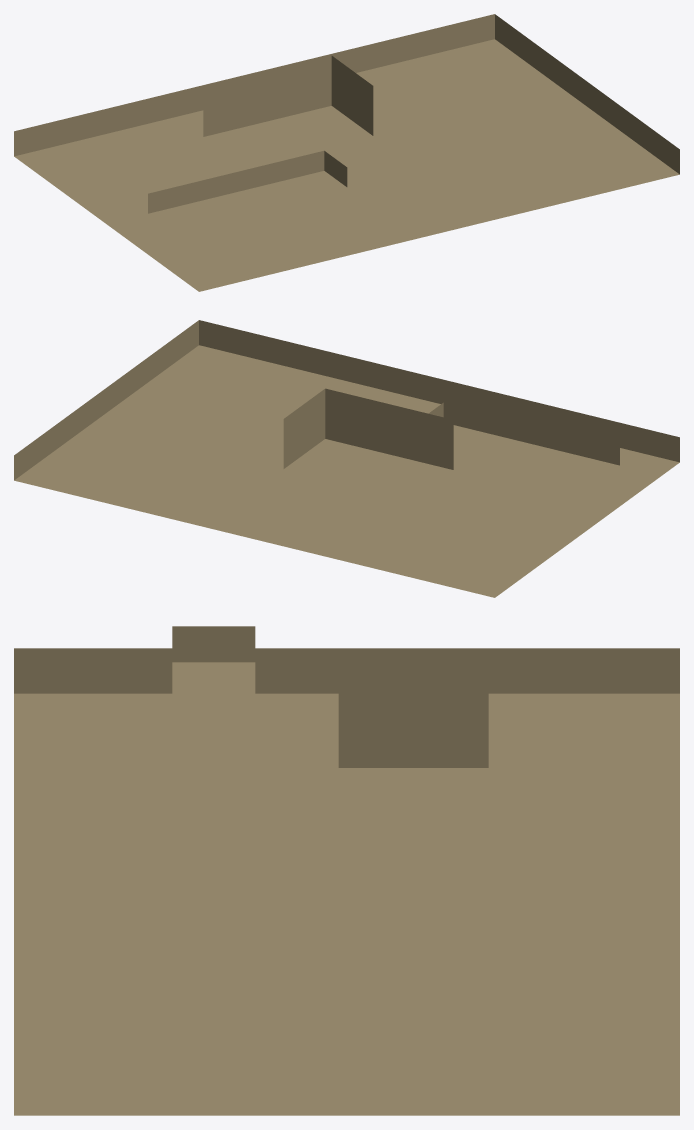
The model's file is SM_MirasCove_Alpha.gltf.
3 views of the same model, one above another, from view 1: azimuth 30°, elevation 25°; view 2: azimuth 150°, elevation 25°; view 3: azimuth 270°, elevation 25° (orthographic). The views are drawn at different scales.
Parts seen in each view (by area): view 1: SM_MirasCove_Alpha; view 2: SM_MirasCove_Alpha; view 3: SM_MirasCove_Alpha.
Boxes of the visible parts, x1,y1,x2,y2 form: SM_MirasCove_Alpha: (14, 14, 679, 291); SM_MirasCove_Alpha: (14, 320, 679, 597); SM_MirasCove_Alpha: (14, 626, 679, 1115).
Size of the model in its own units: 6 by 0.9 by 4.
